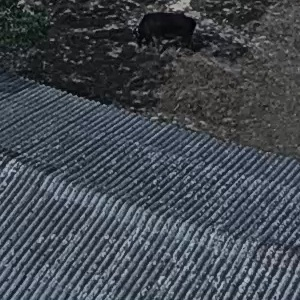cow: (126, 9, 214, 51)
